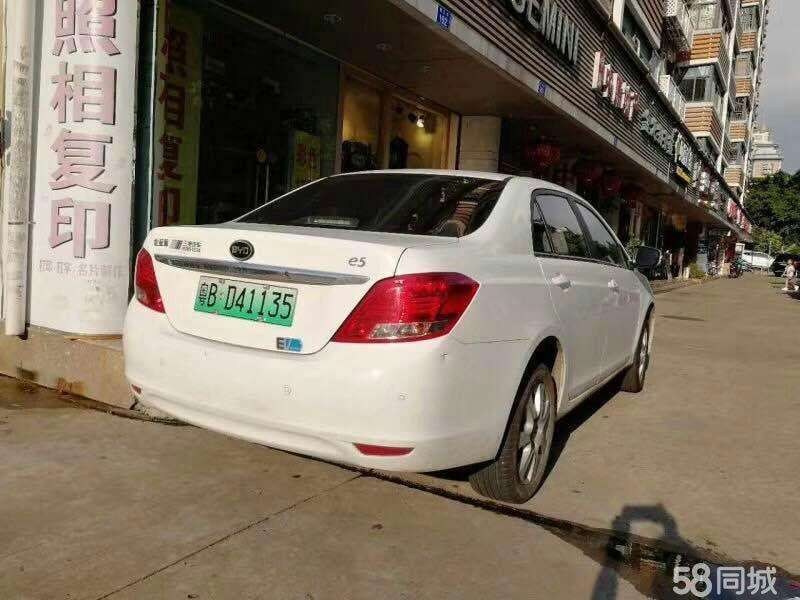plate: (184, 261, 308, 338)
